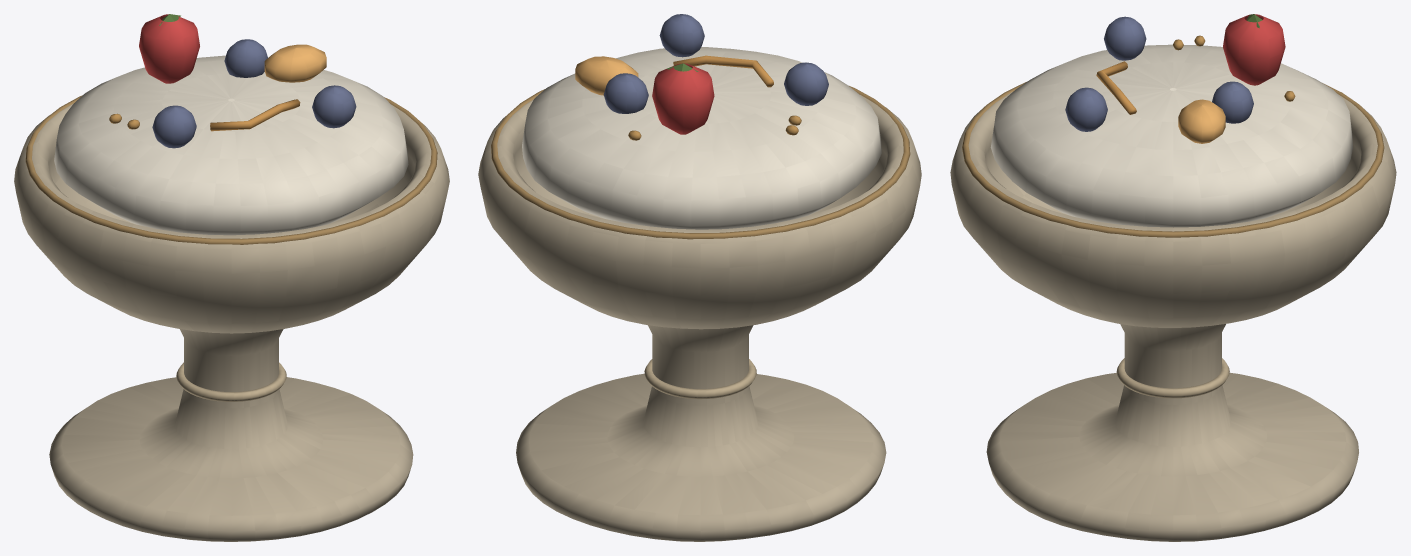
The model's file is yogurt.glb.
3 views of the same model, side by side, from view 1: azimuth 30°, elevation 25°; view 2: azimuth 150°, elevation 25°; view 3: azimuth 270°, elevation 25° (orthographic). The views are drawn at different scales.
Visible parts, largest first — view 1: Shared_warm_ivory_ceramic_goblet, Yogurt_clean_soft_white_surface, Shared_thin_antique_brass_lip, Yogurt_one_fresh_strawberry_pointed_red_fruit, Yogurt_soft_peach_piece, Yogurt_blueberry_1, Yogurt_blueberry_2, Yogurt_blueberry_3, Shared_stem_warm_cream_band, Yogurt_short_honey_drizzle; view 2: Shared_warm_ivory_ceramic_goblet, Yogurt_clean_soft_white_surface, Shared_thin_antique_brass_lip, Yogurt_one_fresh_strawberry_pointed_red_fruit, Yogurt_blueberry_1, Yogurt_blueberry_2, Yogurt_blueberry_3, Yogurt_soft_peach_piece, Shared_stem_warm_cream_band, Yogurt_short_honey_drizzle; view 3: Shared_warm_ivory_ceramic_goblet, Yogurt_clean_soft_white_surface, Shared_thin_antique_brass_lip, Yogurt_one_fresh_strawberry_pointed_red_fruit, Yogurt_soft_peach_piece, Yogurt_blueberry_2, Yogurt_blueberry_1, Shared_stem_warm_cream_band, Yogurt_blueberry_3, Yogurt_short_honey_drizzle.
Part boxes in pixels (bbox=[...]): Shared_warm_ivory_ceramic_goblet: bbox=[14, 103, 449, 541]; Yogurt_clean_soft_white_surface: bbox=[54, 55, 408, 235]; Shared_thin_antique_brass_lip: bbox=[25, 95, 437, 244]; Yogurt_one_fresh_strawberry_pointed_red_fruit: bbox=[139, 14, 199, 83]; Yogurt_soft_peach_piece: bbox=[264, 44, 326, 82]; Yogurt_blueberry_1: bbox=[152, 105, 196, 148]; Yogurt_blueberry_2: bbox=[312, 85, 356, 128]; Yogurt_blueberry_3: bbox=[224, 39, 267, 77]; Shared_stem_warm_cream_band: bbox=[176, 362, 286, 401]; Yogurt_short_honey_drizzle: bbox=[210, 99, 300, 131]; Shared_warm_ivory_ceramic_goblet: bbox=[478, 95, 921, 541]; Yogurt_clean_soft_white_surface: bbox=[522, 47, 881, 229]; Shared_thin_antique_brass_lip: bbox=[491, 86, 910, 239]; Yogurt_one_fresh_strawberry_pointed_red_fruit: bbox=[652, 63, 714, 134]; Yogurt_blueberry_1: bbox=[784, 62, 828, 105]; Yogurt_blueberry_2: bbox=[659, 14, 704, 57]; Yogurt_blueberry_3: bbox=[603, 73, 648, 113]; Yogurt_soft_peach_piece: bbox=[575, 56, 638, 95]; Shared_stem_warm_cream_band: bbox=[644, 359, 756, 399]; Yogurt_short_honey_drizzle: bbox=[673, 55, 773, 87]; Shared_warm_ivory_ceramic_goblet: bbox=[950, 92, 1396, 541]; Yogurt_clean_soft_white_surface: bbox=[990, 44, 1352, 227]; Shared_thin_antique_brass_lip: bbox=[962, 82, 1384, 237]; Yogurt_one_fresh_strawberry_pointed_red_fruit: bbox=[1223, 14, 1285, 85]; Yogurt_soft_peach_piece: bbox=[1178, 99, 1225, 143]; Yogurt_blueberry_2: bbox=[1065, 87, 1107, 131]; Yogurt_blueberry_1: bbox=[1104, 16, 1146, 60]; Shared_stem_warm_cream_band: bbox=[1116, 358, 1229, 398]; Yogurt_blueberry_3: bbox=[1212, 81, 1253, 123]; Yogurt_short_honey_drizzle: bbox=[1096, 61, 1136, 114].
Bounding box in the file's own units: 0.788 × 0.874 × 0.788.
